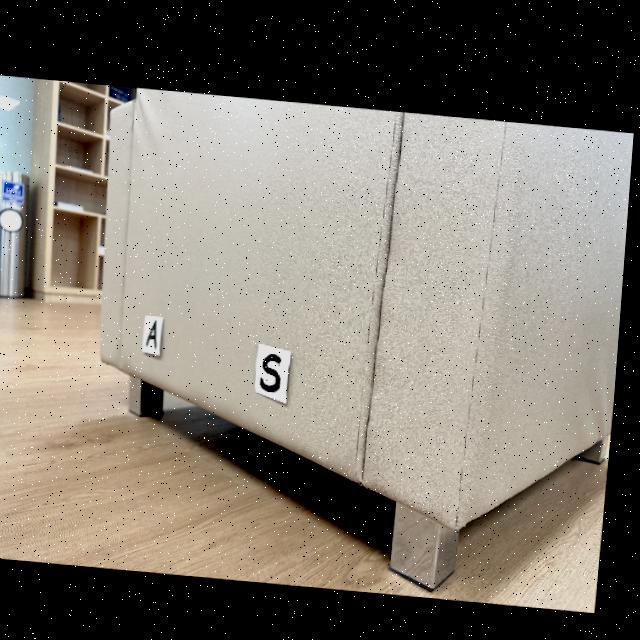A: (150, 318, 162, 345)
S: (265, 348, 287, 387)
